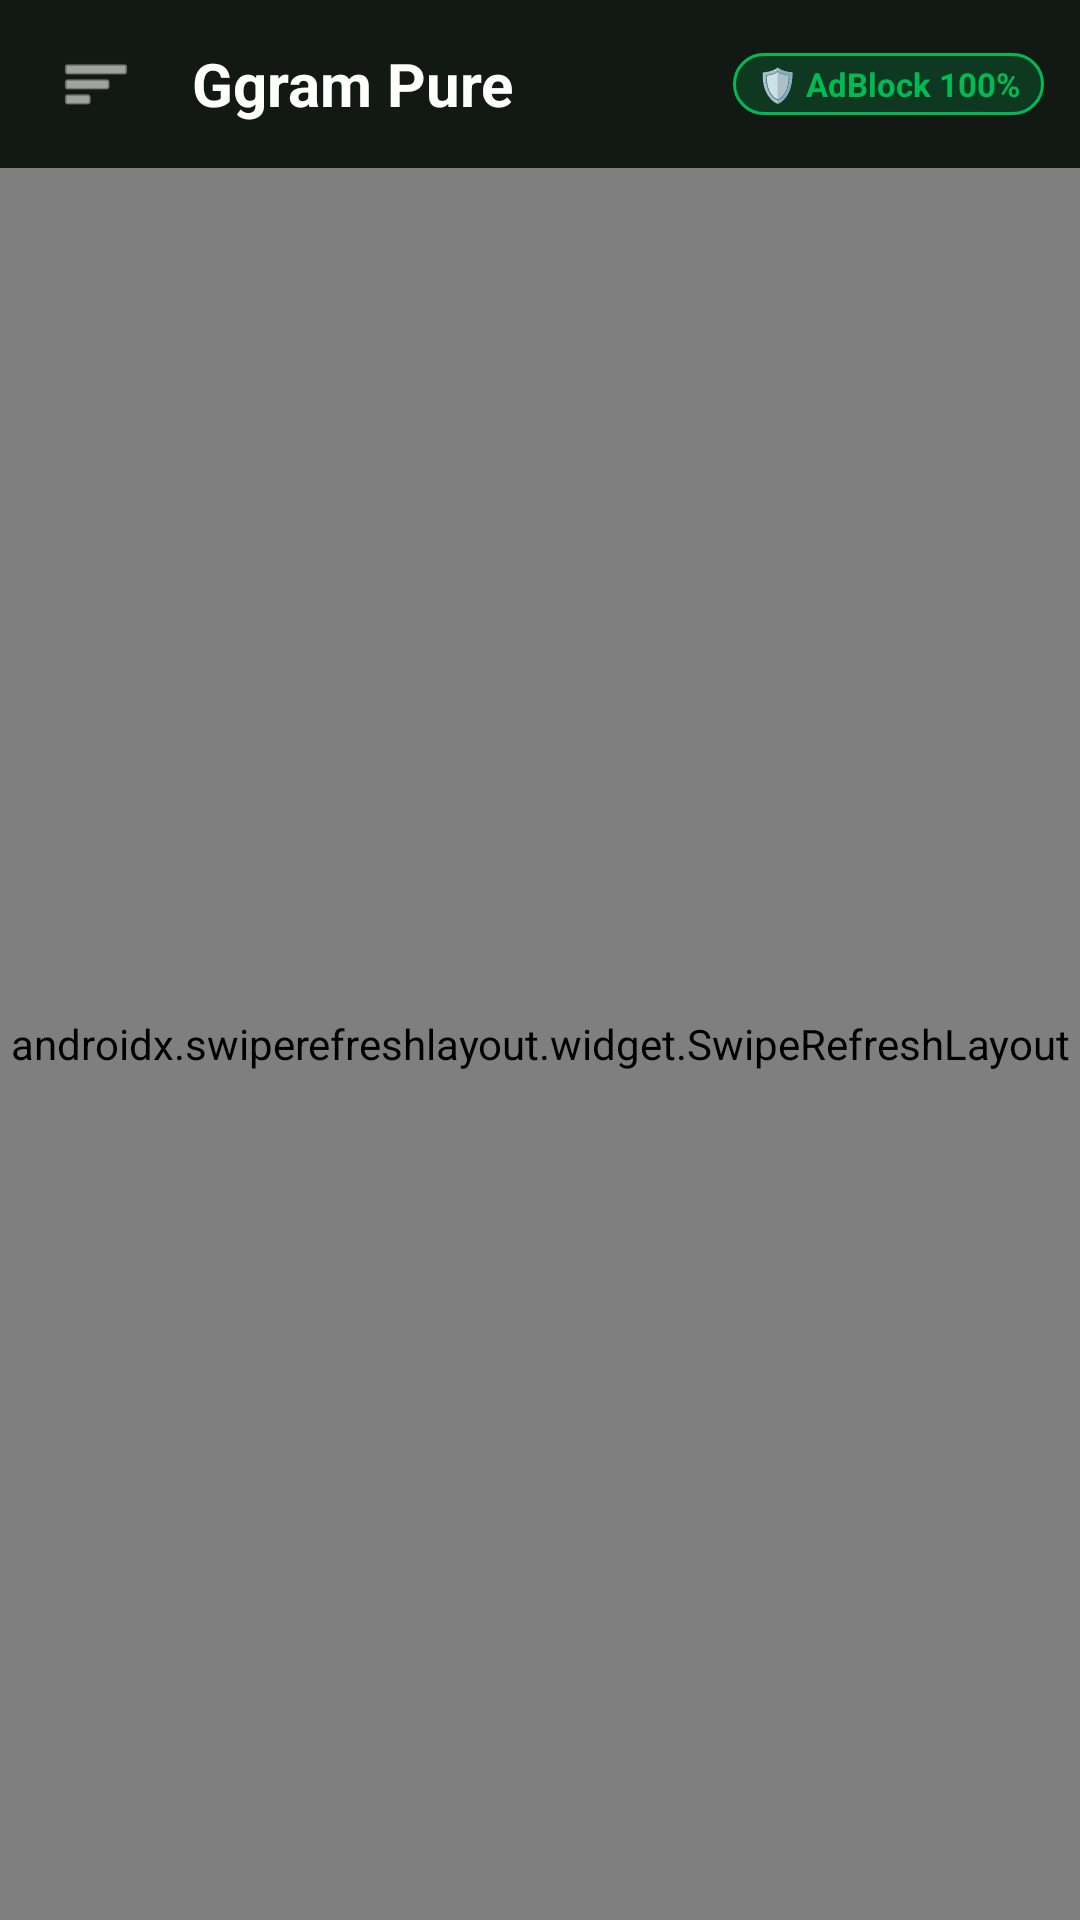

Named icons in this screenshot (1080 x 1920) and their bounding boxes, (x1, y1, x2, y2):
Menu: (65, 64, 127, 105)
